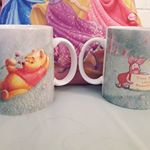tmd: (1, 25, 78, 117)
